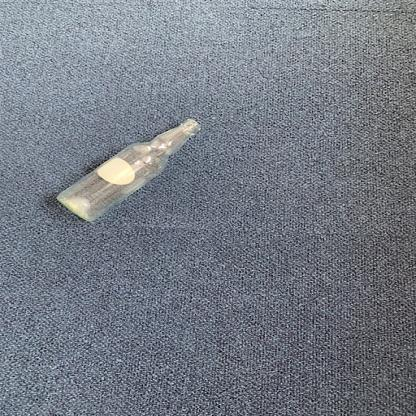trash: (54, 118, 202, 230)
